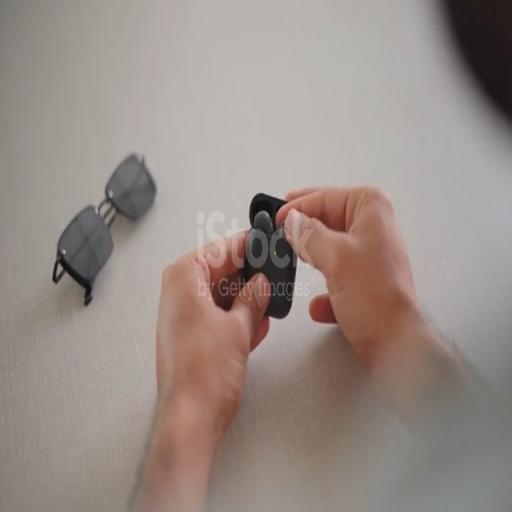earphone: (237, 194, 308, 326)
